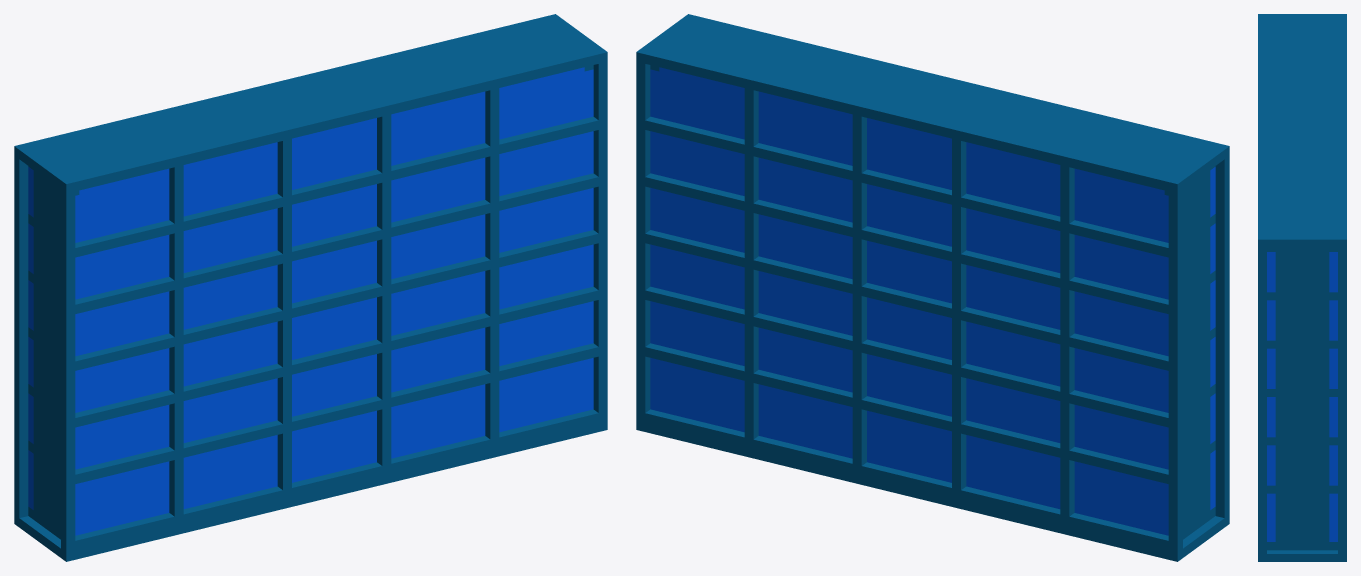
Rendered from Blue Wall.obj.
3 views of the same model, side by side, from view 1: azimuth 30°, elevation 25°; view 2: azimuth 150°, elevation 25°; view 3: azimuth 270°, elevation 25° (orthographic). The views are drawn at different scales.
Bounding box in the file's own units: 60 × 40 × 10.
Materials: 1 (1 with a texture image).
